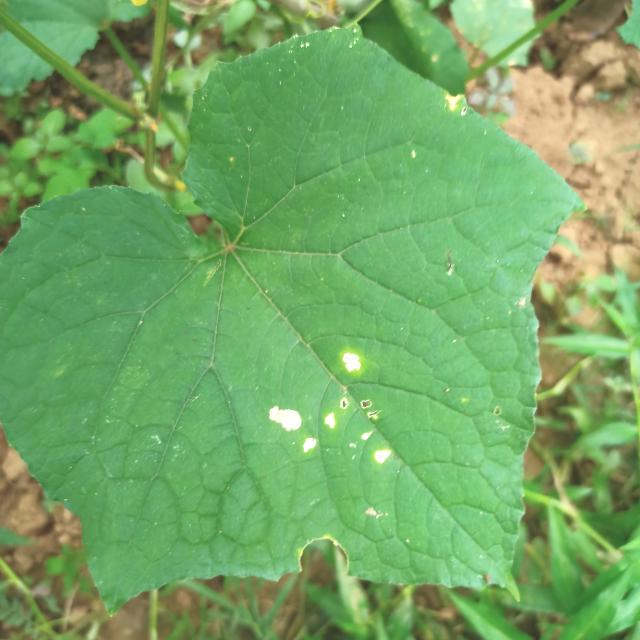disease_cucumber: (270, 352, 391, 471)
